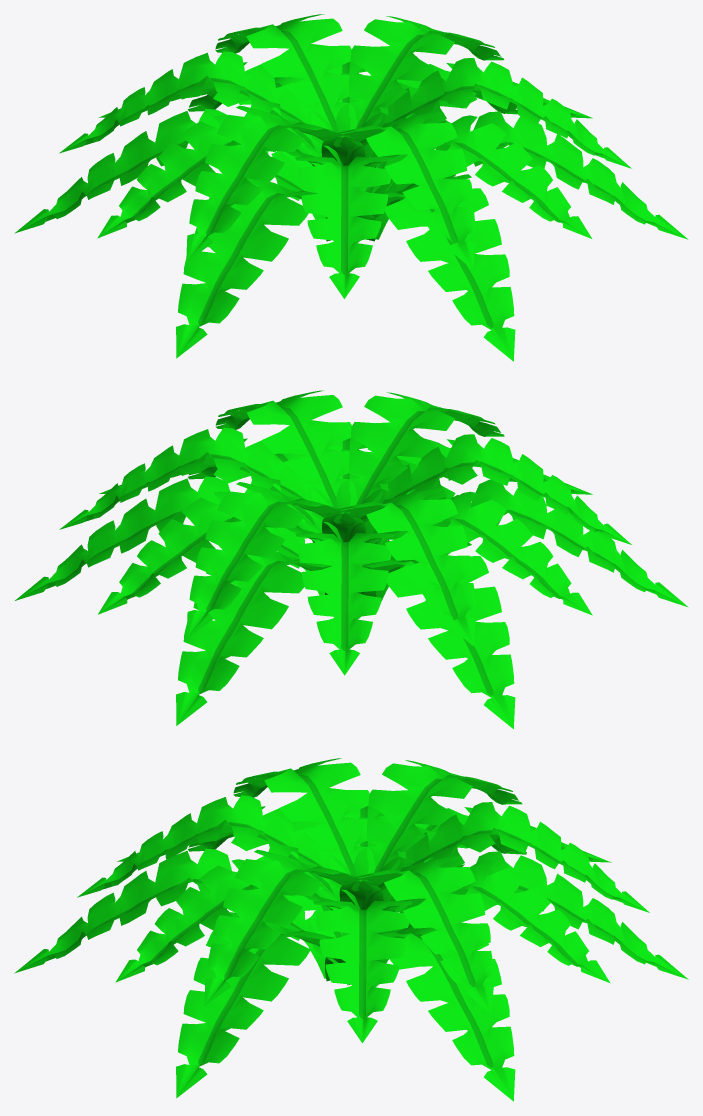
The model's file is Foliage_Bush_2.fbx.
The picture shows the model from 3 angles, top to bottom: view 1: azimuth 30°, elevation 25°; view 2: azimuth 150°, elevation 25°; view 3: azimuth 270°, elevation 25°; orthographic projection.
Visible parts, largest first — view 1: Bush_2; view 2: Bush_2; view 3: Bush_2.
Part boxes in pixels (x1,y1,x2,y2): Bush_2: (14, 14, 688, 361); Bush_2: (15, 390, 688, 728); Bush_2: (14, 758, 688, 1101).
Size of the model in its own units: 173 by 53.11 by 197.
